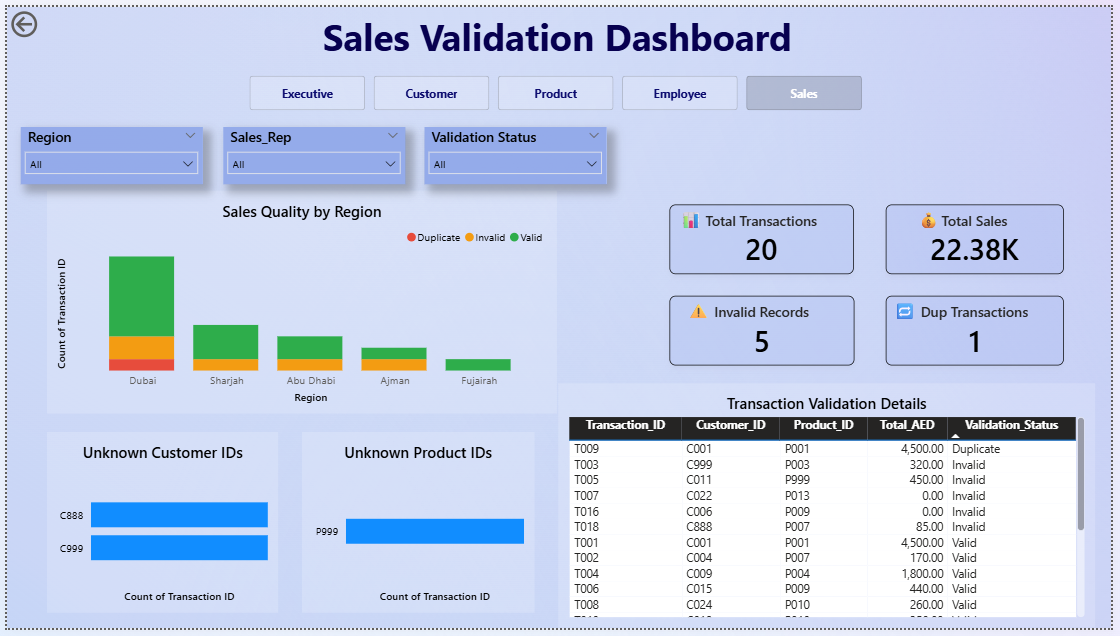

The dashboard page shown, as its layout file describes it:
{"tool":"powerbi","page":{"name":"Sales","canvas":[1280,720],"ordinal":4},"visuals":[{"type":"columnChart","title":"Sales Quality by Region","fields":{"Category":["sales_data.Region"],"Y":["CountNonNull(sales_data.Transaction_ID)"],"Series":["sales_data.Validation_Status"]},"box":[46.5,213.4,591.2,258.7],"z":0},{"type":"slicer","fields":{"Values":["sales_data.Region"]},"box":[15.7,139.5,210.8,66.5],"z":1000},{"type":"slicer","fields":{"Values":["sales_data.Validation_Status"]},"box":[483.8,139.5,210.8,66.5],"z":2000},{"type":"slicer","fields":{"Values":["sales_data.Sales_Rep"]},"box":[250.8,139.5,210.8,66.5],"z":3000},{"type":"textbox","box":[189.7,0,896.2,67.6],"z":4000},{"type":"cardVisual","fields":{"Data":["sales_data.Total Transactions"]},"box":[767.7,228.9,213.4,81.1],"z":5000},{"type":"cardVisual","fields":{"Data":["sales_data.Total Sales"]},"box":[1019.2,228.9,206.2,81.1],"z":6000},{"type":"cardVisual","fields":{"Data":["sales_data.Duplicate_Transactions"]},"box":[1019.3,335.2,206.2,80.7],"z":7000},{"type":"cardVisual","fields":{"Data":["sales_data.Invalid_Records"]},"box":[767.7,335,214.6,81.1],"z":8000},{"type":"textbox","box":[776,228.9,40.5,40.5],"z":9000},{"type":"textbox","box":[1050.2,228.9,35.8,40.5],"z":10000},{"type":"textbox","box":[783.9,332.8,38.3,42.8],"z":11000},{"type":"textbox","box":[1022.8,335,45.6,42.8],"z":12000},{"type":"clusteredBarChart","title":"Unknown Customer IDs","fields":{"Category":["sales_data.Customer_ID"],"Y":["CountNonNull(sales_data.Transaction_ID)"]},"box":[46.5,492.3,268.2,209.8],"z":13000},{"type":"actionButton","box":[0,0,100,40],"z":14000},{"type":"tableEx","title":"Transaction Validation Details","fields":{"Values":["sales_data.Transaction_ID","sales_data.Customer_ID","sales_data.Product_ID","sales_data.Total_AED","sales_data.Validation_Status"]},"box":[639.4,436.1,622.6,283.3],"z":15000},{"type":"clusteredBarChart","title":"Unknown Product IDs","fields":{"Y":["CountNonNull(sales_data.Transaction_ID)"],"Category":["sales_data.Product_ID"]},"box":[342.1,492.3,269.4,209.8],"z":16000},{"type":"pageNavigator","box":[280.5,79.3,714.9,40.2],"z":17000}]}

Visuals, with their boxes in screenshot pixels (x1, y1, x2, y2), scaled from the page's 1280x720 canvas onto the 1120x636 screenshot:
"Sales Quality by Region" columnChart: [41,189,558,417]
slicer - sales_data.Region: [14,123,198,182]
slicer - sales_data.Validation_Status: [423,123,608,182]
slicer - sales_data.Sales_Rep: [219,123,404,182]
textbox: [166,0,950,60]
cardVisual - sales_data.Total Transactions: [672,202,858,274]
cardVisual - sales_data.Total Sales: [892,202,1072,274]
cardVisual - sales_data.Duplicate_Transactions: [892,296,1072,367]
cardVisual - sales_data.Invalid_Records: [672,296,860,368]
textbox: [679,202,714,238]
textbox: [919,202,950,238]
textbox: [686,294,719,332]
textbox: [895,296,935,334]
"Unknown Customer IDs" clusteredBarChart: [41,435,275,620]
actionButton: [0,0,88,35]
"Transaction Validation Details" tableEx: [559,385,1104,635]
"Unknown Product IDs" clusteredBarChart: [299,435,535,620]
pageNavigator: [245,70,871,106]
